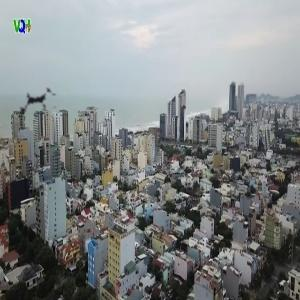drone: (5, 68, 73, 136)
